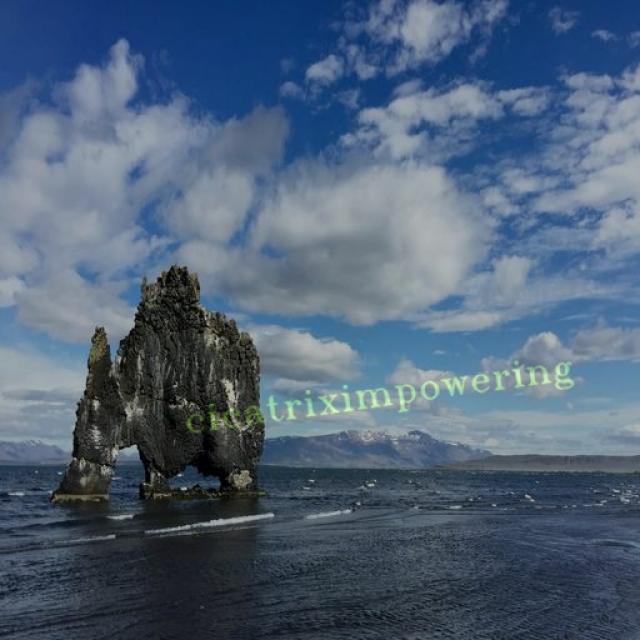watermark: (176, 350, 575, 439)
